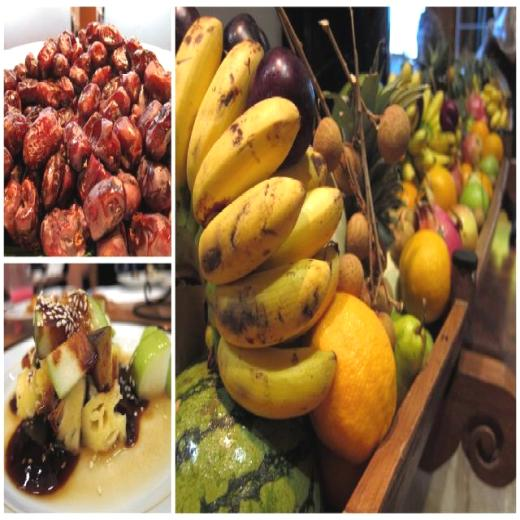Banana: (174, 15, 338, 421), (226, 340, 347, 426), (406, 89, 457, 175), (479, 83, 507, 127)
Grape: (321, 280, 398, 463), (403, 226, 454, 318), (435, 158, 457, 208), (482, 120, 500, 166), (460, 152, 470, 199), (475, 119, 485, 148)
